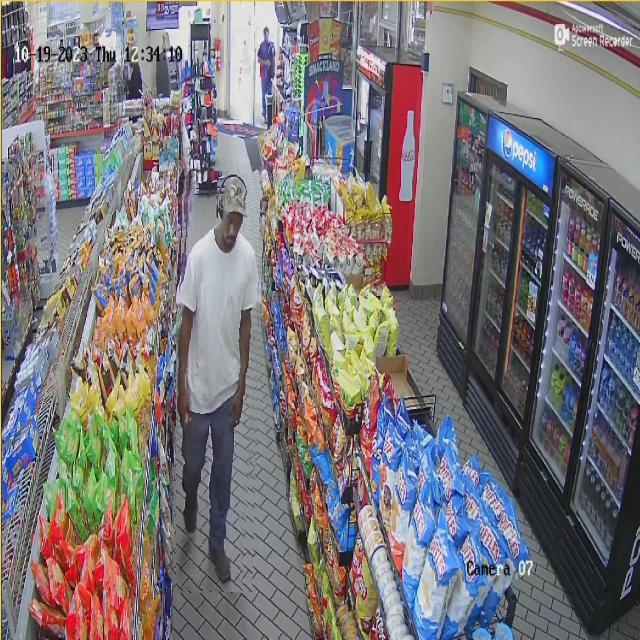Normal: (176, 171, 262, 593)
